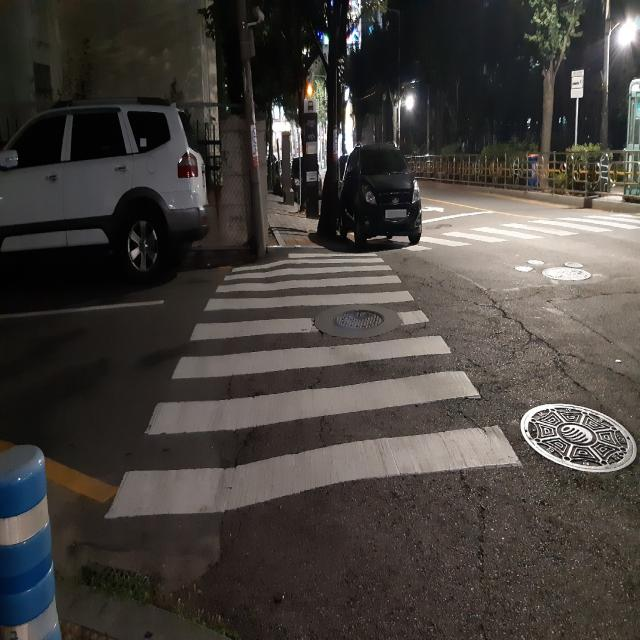횡단보도: (104, 252, 523, 518), (438, 234, 640, 257)
